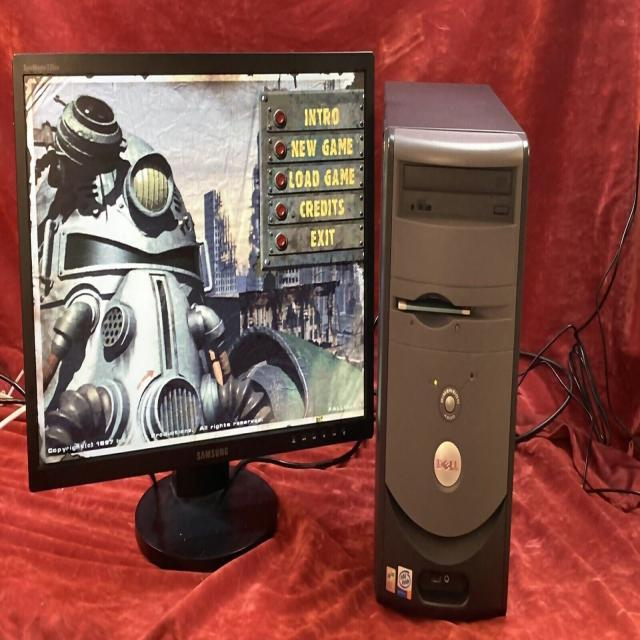Desktop-PC: (376, 50, 552, 632)
Flat-Panel-Monitor: (7, 38, 377, 566)
